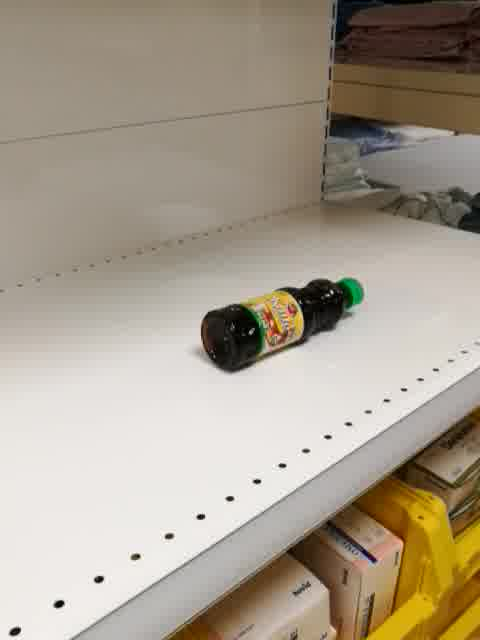cookingoil: (199, 273, 366, 376)
